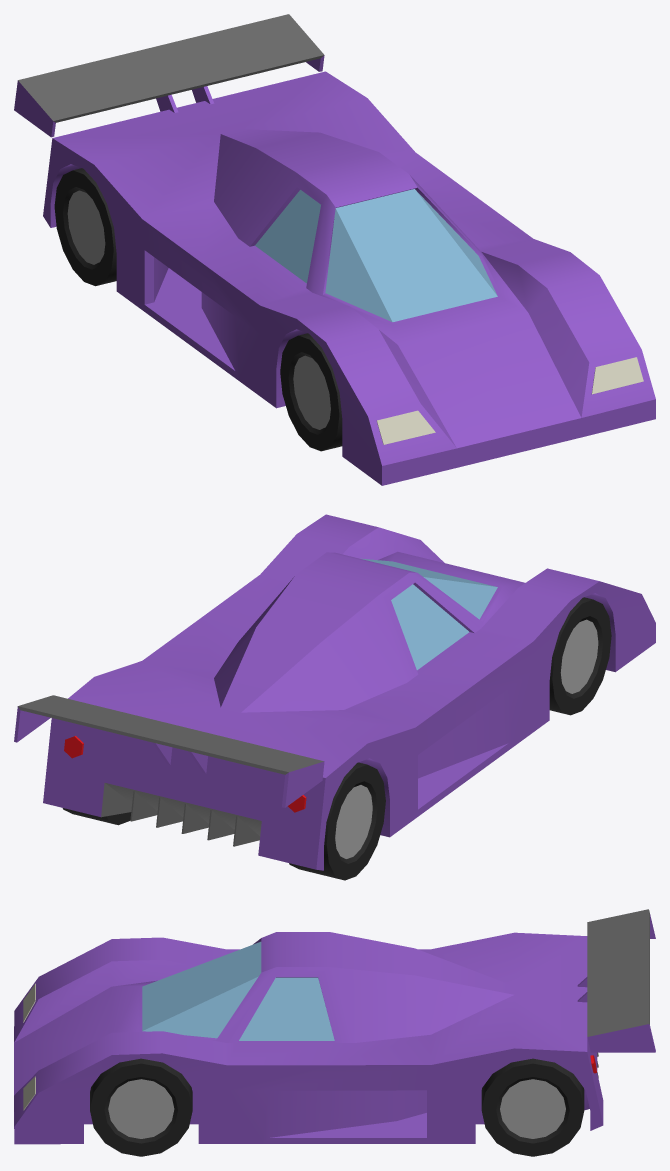
The model's file is lamba_purple.dae.
3 renders of one model, top to bottom at view 1: azimuth 30°, elevation 25°; view 2: azimuth 150°, elevation 25°; view 3: azimuth 270°, elevation 25°, orthographic. The views are drawn at different scales.
Parts seen in each view (by area): view 1: car-groupc-1-violet_Cube_887_carmaterial_violet, car-groupc-1-violet_Cube_887_windows, car-groupc-1-violet_Cube_887_metal_black, car-groupc-1-violet_Cube_887_metal, car-groupc-1-violet_Cube_887_tires, car-groupc-1-violet_Cube_887_tires_003, car-groupc-1-violet_Cube_887_lights; view 2: car-groupc-1-violet_Cube_887_carmaterial_violet, car-groupc-1-violet_Cube_887_metal_black, car-groupc-1-violet_Cube_887_windows, car-groupc-1-violet_Cube_887_metal, car-groupc-1-violet_Cube_887_tires_003, car-groupc-1-violet_Cube_887_tires, car-groupc-1-violet_Cube_887_lights_red; view 3: car-groupc-1-violet_Cube_887_carmaterial_violet, car-groupc-1-violet_Cube_887_windows, car-groupc-1-violet_Cube_887_metal_black, car-groupc-1-violet_Cube_887_metal, car-groupc-1-violet_Cube_887_tires_002, car-groupc-1-violet_Cube_887_tires_001, car-groupc-1-violet_Cube_887_lights.
Boxes of the visible parts, x1,y1,x2,y2 form: car-groupc-1-violet_Cube_887_carmaterial_violet: (14,55,655,485); car-groupc-1-violet_Cube_887_windows: (255,189,497,322); car-groupc-1-violet_Cube_887_metal_black: (18,14,323,122); car-groupc-1-violet_Cube_887_metal: (67,190,330,429); car-groupc-1-violet_Cube_887_tires: (280,333,342,451); car-groupc-1-violet_Cube_887_tires_003: (54,168,116,286); car-groupc-1-violet_Cube_887_lights: (377,357,643,444); car-groupc-1-violet_Cube_887_carmaterial_violet: (14,514,655,870); car-groupc-1-violet_Cube_887_metal_black: (18,695,323,846); car-groupc-1-violet_Cube_887_windows: (360,558,497,670); car-groupc-1-violet_Cube_887_metal: (335,619,598,858); car-groupc-1-violet_Cube_887_tires_003: (289,762,385,880); car-groupc-1-violet_Cube_887_tires: (549,597,611,715); car-groupc-1-violet_Cube_887_lights_red: (64,736,306,812); car-groupc-1-violet_Cube_887_carmaterial_violet: (14,914,655,1144); car-groupc-1-violet_Cube_887_windows: (142,941,334,1040); car-groupc-1-violet_Cube_887_metal_black: (587,909,649,1077); car-groupc-1-violet_Cube_887_metal: (108,1079,565,1138); car-groupc-1-violet_Cube_887_tires_002: (481,1058,584,1156); car-groupc-1-violet_Cube_887_tires_001: (90,1058,192,1156); car-groupc-1-violet_Cube_887_lights: (23,983,35,1110).
Size of the model in its own units: 0.96 by 2.25 by 0.5777.
